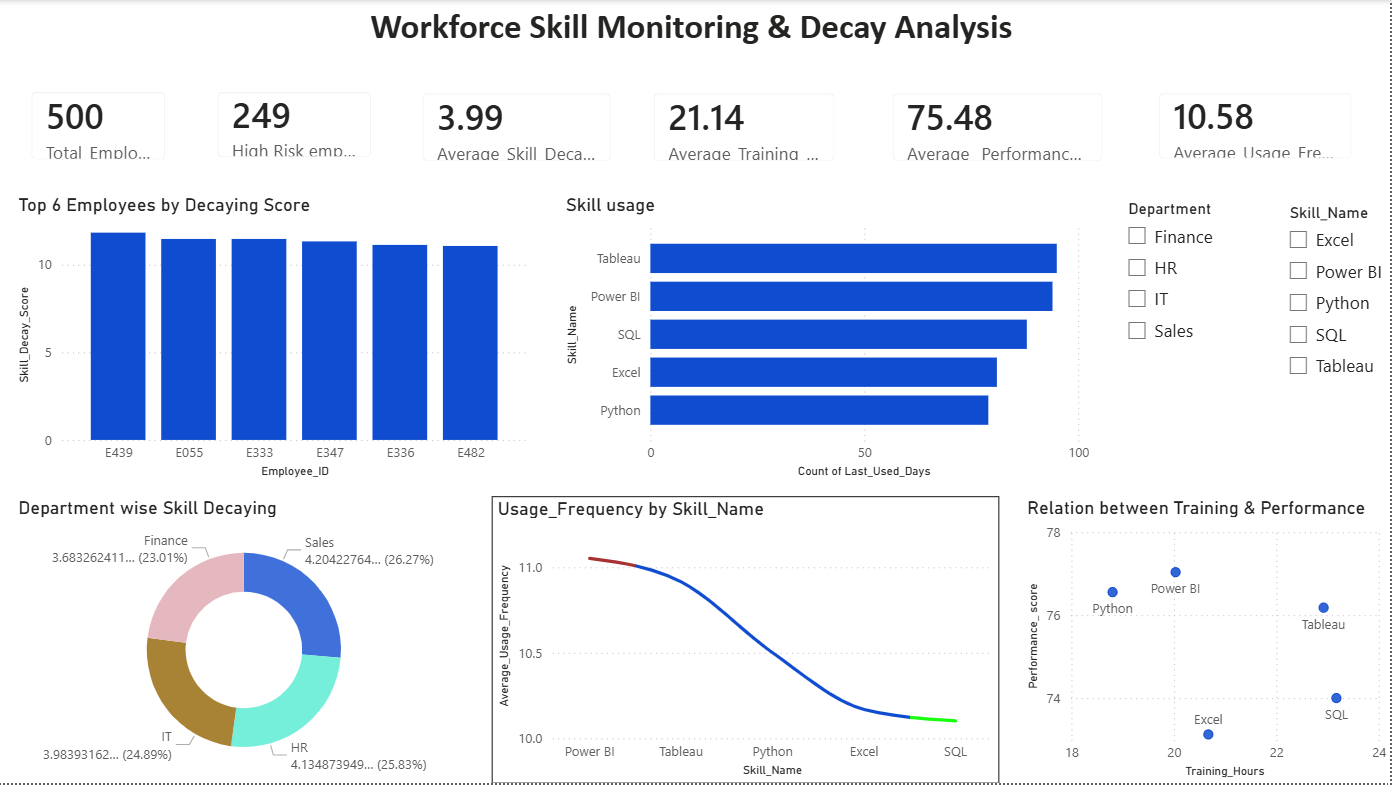

The dashboard page shown, as its layout file describes it:
{"tool":"powerbi","page":{"name":"Operational Analytical Dashboard","canvas":[1280,720],"ordinal":0},"visuals":[{"type":"lineChart","title":"Usage_Frequency by Skill_Name","fields":{"Category":["synthetic_skill_decay synthetic_skill_data.Skill_Name"],"Y":["synthetic_skill_decay synthetic_skill_data.Average_Usage_Frequency"]},"box":[453.2,455.8,466.2,263.6],"z":0},{"type":"clusteredColumnChart","title":"Top 6 Employees by Decaying Score","fields":{"Category":["synthetic_skill_decay synthetic_skill_data.Employee_ID"],"Y":["Sum(synthetic_skill_decay synthetic_skill_data.Skill_Decay_Score)"]},"box":[14.3,177.9,477.9,266.2],"z":1000},{"type":"scatterChart","title":"Relation between Training & Performance","fields":{"X":["synthetic_skill_decay synthetic_skill_data.Average_Training_Hours"],"Y":["synthetic_skill_decay synthetic_skill_data.Average_ Performance_ score"],"Category":["synthetic_skill_decay synthetic_skill_data.Skill_Name"]},"box":[940.3,455.8,340.3,263.6],"z":2000},{"type":"barChart","title":"Skill usage","fields":{"Category":["synthetic_skill_decay synthetic_skill_data.Skill_Name"],"Y":["Count(synthetic_skill_decay synthetic_skill_data.Last_Used_Days)"]},"box":[516.9,177.9,490.9,266.2],"z":3000},{"type":"donutChart","title":"Department wise Skill Decaying","fields":{"Category":["synthetic_skill_decay synthetic_skill_data.Department"],"Y":["synthetic_skill_decay synthetic_skill_data.Average_Skill_Decay_score"]},"box":[14.3,455.8,424.7,263.6],"z":4000},{"type":"slicer","fields":{"Values":["synthetic_skill_decay synthetic_skill_data.Department"]},"box":[1026,177.9,132.5,262.3],"z":5000},{"type":"slicer","fields":{"Values":["synthetic_skill_decay synthetic_skill_data.Skill_Name"]},"box":[1174,181.8,106.5,258.4],"z":6000},{"type":"cardVisual","fields":{"Data":["synthetic_skill_decay synthetic_skill_data.Total_Employees"]},"box":[13.7,67.2,157.8,96.1],"z":7000},{"type":"cardVisual","fields":{"Data":["synthetic_skill_decay synthetic_skill_data.Average_ Performance_ score"]},"box":[805.5,68.6,227.8,96.1],"z":8000},{"type":"cardVisual","fields":{"Data":["synthetic_skill_decay synthetic_skill_data.Average_Usage_Frequency"]},"box":[1049.7,68.6,211.3,94.7],"z":9000},{"type":"cardVisual","fields":{"Data":["synthetic_skill_decay synthetic_skill_data.Average_Skill_Decay_score"]},"box":[373.2,68.6,207.2,96.1],"z":10000},{"type":"cardVisual","fields":{"Data":["synthetic_skill_decay synthetic_skill_data.Average_Training_Hours"]},"box":[585.9,68.6,200.3,96.1],"z":11000},{"type":"textbox","box":[14.3,0,1246.8,67.5],"z":12000},{"type":"cardVisual","fields":{"Data":["Sum(synthetic_skill_decay synthetic_skill_data.High Risk employees)"]},"box":[185.2,67.2,175.6,94.7],"z":13000}]}

Visuals, with their boxes in screenshot pixels (x1, y1, x2, y2), scaled from the page's 1280x720 canvas onto the 1392x786 screenshot:
"Usage_Frequency by Skill_Name" lineChart: 493:498:1000:785
"Top 6 Employees by Decaying Score" clusteredColumnChart: 16:194:535:485
"Relation between Training & Performance" scatterChart: 1023:498:1391:785
"Skill usage" barChart: 562:194:1096:485
"Department wise Skill Decaying" donutChart: 16:498:477:785
slicer - synthetic_skill_decay synthetic_skill_data.Department: 1116:194:1260:481
slicer - synthetic_skill_decay synthetic_skill_data.Skill_Name: 1277:198:1391:481
cardVisual - synthetic_skill_decay synthetic_skill_data.Total_Employees: 15:73:187:178
cardVisual - synthetic_skill_decay synthetic_skill_data.Average_ Performance_ score: 876:75:1124:180
cardVisual - synthetic_skill_decay synthetic_skill_data.Average_Usage_Frequency: 1142:75:1371:178
cardVisual - synthetic_skill_decay synthetic_skill_data.Average_Skill_Decay_score: 406:75:631:180
cardVisual - synthetic_skill_decay synthetic_skill_data.Average_Training_Hours: 637:75:855:180
textbox: 16:0:1371:74
cardVisual - Sum(synthetic_skill_decay synthetic_skill_data.High Risk employees): 201:73:392:177
